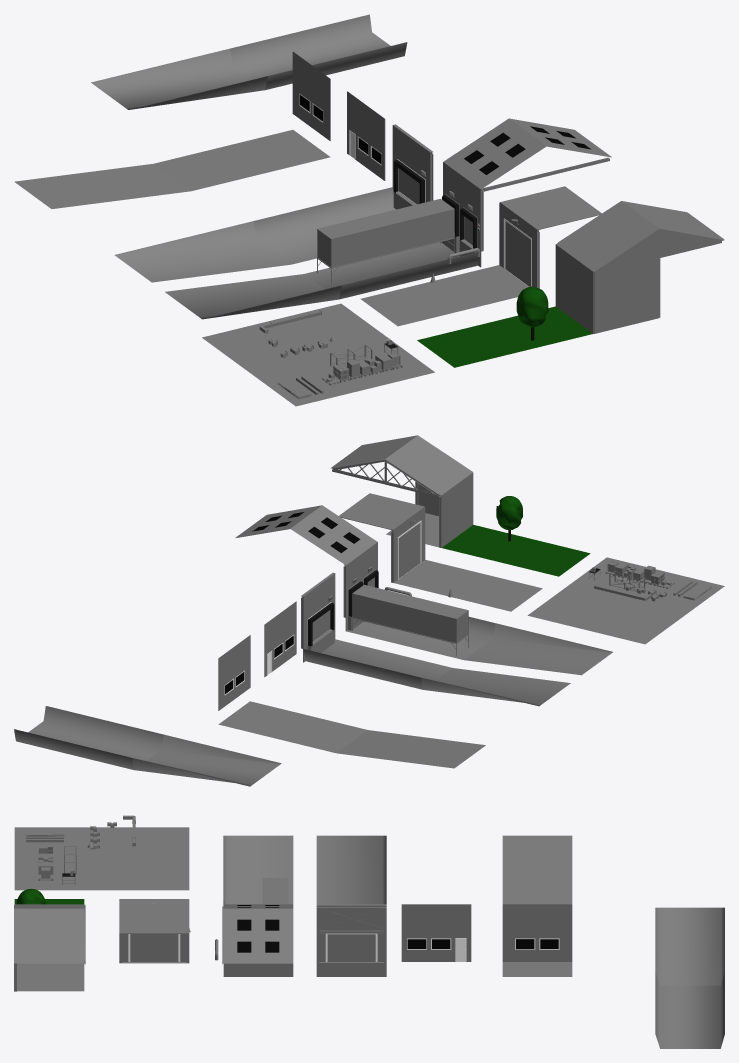
Rendered from uploads_files_777729_modular_warehouse.FBX.
3 views of the same model, one above another, from view 1: azimuth 30°, elevation 25°; view 2: azimuth 150°, elevation 25°; view 3: azimuth 270°, elevation 25° (orthographic). The views are drawn at different scales.
Visible parts, largest first — view 1: Plane016, Plane010, container, Plane008, Plane009, Plane013, Plane005, Plane_green, Plane014, Plane006, Plane012, Plane011 (+15 smaller); view 2: Plane016, Plane010, container, Plane006, Plane009, Plane013, Plane_green, Plane005, Plane011, Plane014, Plane008, roof_550x400_1 (+13 smaller); view 3: Plane016, Plane009, Plane014, Plane008, Plane010, wall_550x400_big_gate_ramp, Plane006, wall_550x400_door_and_windows, wall_550x400_windows, roof_550x400_windows_2, roof_550x400_2, roof_flat (+7 smaller).
Part boxes in pixels (x1,y1,x2,y2): Plane016: [202, 303, 434, 406]; Plane010: [230, 14, 407, 89]; container: [317, 198, 454, 283]; Plane008: [114, 221, 290, 282]; Plane009: [91, 48, 267, 109]; Plane013: [154, 130, 330, 191]; Plane005: [360, 265, 528, 326]; Plane_green: [417, 306, 592, 367]; Plane014: [14, 163, 190, 208]; Plane006: [165, 274, 341, 319]; Plane012: [304, 242, 481, 299]; Plane011: [254, 187, 395, 264]; Plane016: [527, 557, 724, 644]; Plane010: [14, 706, 163, 769]; container: [352, 584, 468, 656]; Plane006: [464, 623, 612, 675]; Plane009: [132, 734, 281, 786]; Plane013: [218, 701, 367, 753]; Plane_green: [442, 524, 590, 576]; Plane005: [394, 560, 542, 611]; Plane011: [303, 639, 452, 689]; Plane014: [337, 730, 485, 768]; Plane008: [421, 668, 570, 706]; roof_550x400_1: [386, 435, 472, 495]; Plane016: [14, 827, 189, 890]; Plane009: [655, 907, 724, 985]; Plane014: [502, 835, 572, 904]; Plane008: [316, 835, 386, 904]; Plane010: [655, 971, 724, 1048]; wall_550x400_big_gate_ramp: [316, 904, 386, 976]; Plane006: [223, 835, 293, 904]; wall_550x400_door_and_windows: [401, 904, 471, 962]; wall_550x400_windows: [502, 904, 572, 961]; roof_550x400_windows_2: [223, 908, 293, 963]; roof_550x400_2: [14, 908, 84, 963]; roof_flat: [119, 904, 189, 933].
Size of what is drawn, in the model's own units: 1519 by 335 by 2207.
